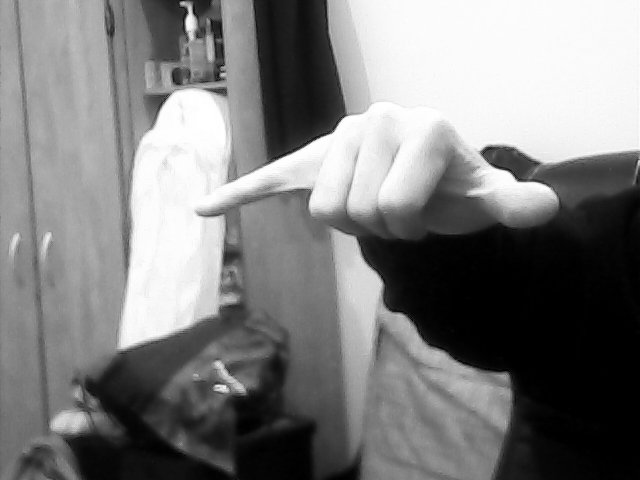aloha: (193, 97, 562, 248)
